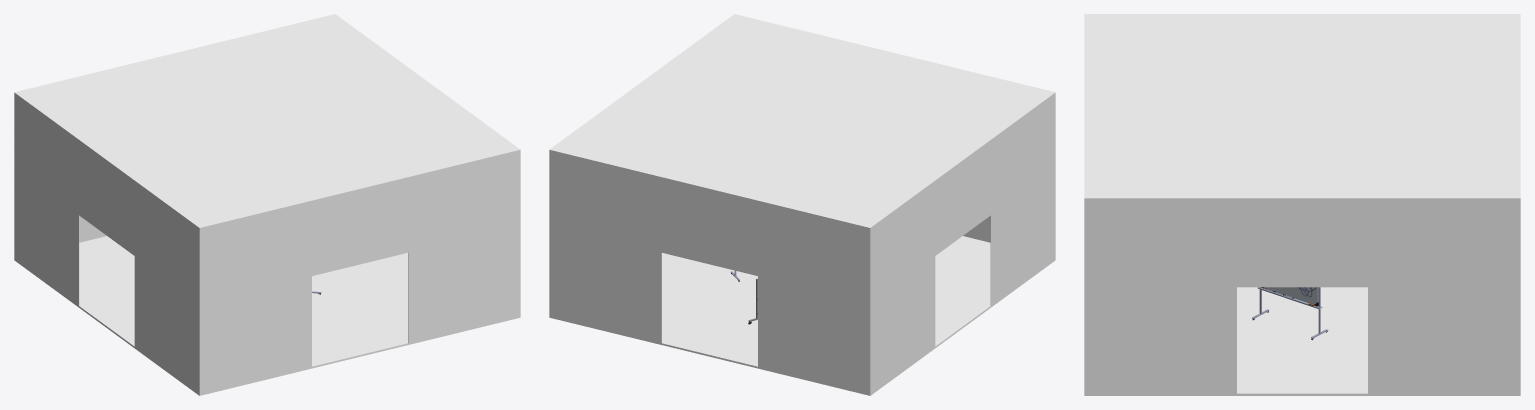
Rendered from Level1_Room5.glb.
3 renders of one model, left to right at view 1: azimuth 30°, elevation 25°; view 2: azimuth 150°, elevation 25°; view 3: azimuth 270°, elevation 25°, orthographic. The views are drawn at different scales.
Parts seen in each view (by area): view 1: Cube copy copy copy (×3), Cube copy copy (×3), Cube, Cube copy; view 2: Cube copy copy copy (×2), Cube copy copy copy copy (×2), Cube copy copy (×2), Cube, Cube copy; view 3: Cube copy copy copy (×3), Cube copy copy, Cube, world.
Part boxes in pixels (x1,y1,x2,y2): Cube copy copy copy (×3): (15, 14, 520, 395); Cube copy copy (×3): (14, 92, 520, 395); Cube: (14, 236, 408, 395); Cube copy: (14, 92, 199, 303); Cube copy copy copy (×2): (549, 14, 1054, 303); Cube copy copy copy copy (×2): (549, 150, 870, 395); Cube copy copy (×2): (870, 93, 1055, 395); Cube: (661, 236, 1055, 395); Cube copy: (870, 92, 1055, 303); Cube copy copy copy (×3): (1084, 14, 1520, 395); Cube copy copy: (1084, 198, 1520, 287); Cube: (1237, 287, 1367, 395); world: (1252, 287, 1328, 339).
Size of what is drawn, in the model's own units: 10 by 5 by 10.01.
Materials: 22 (5 with a texture image).
